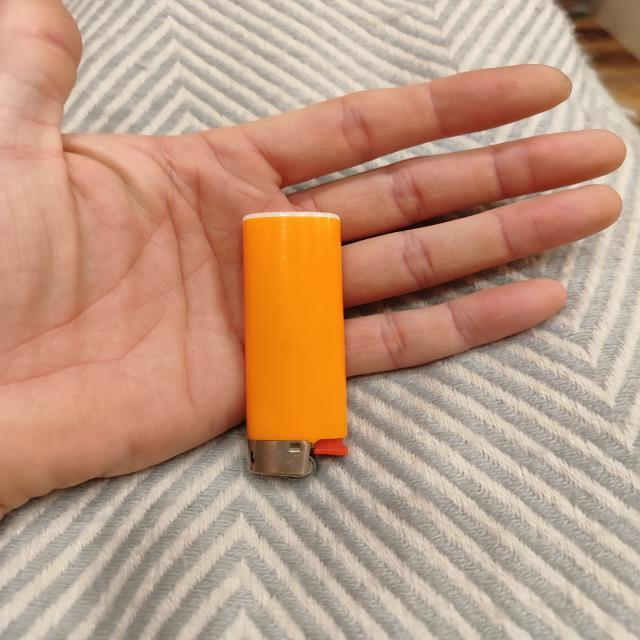lighter: (244, 213, 346, 477)
